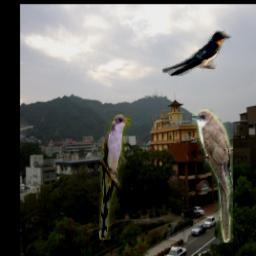Cuckoo: (191, 109, 232, 243), (98, 114, 130, 240)
Swallow: (162, 29, 231, 76)
